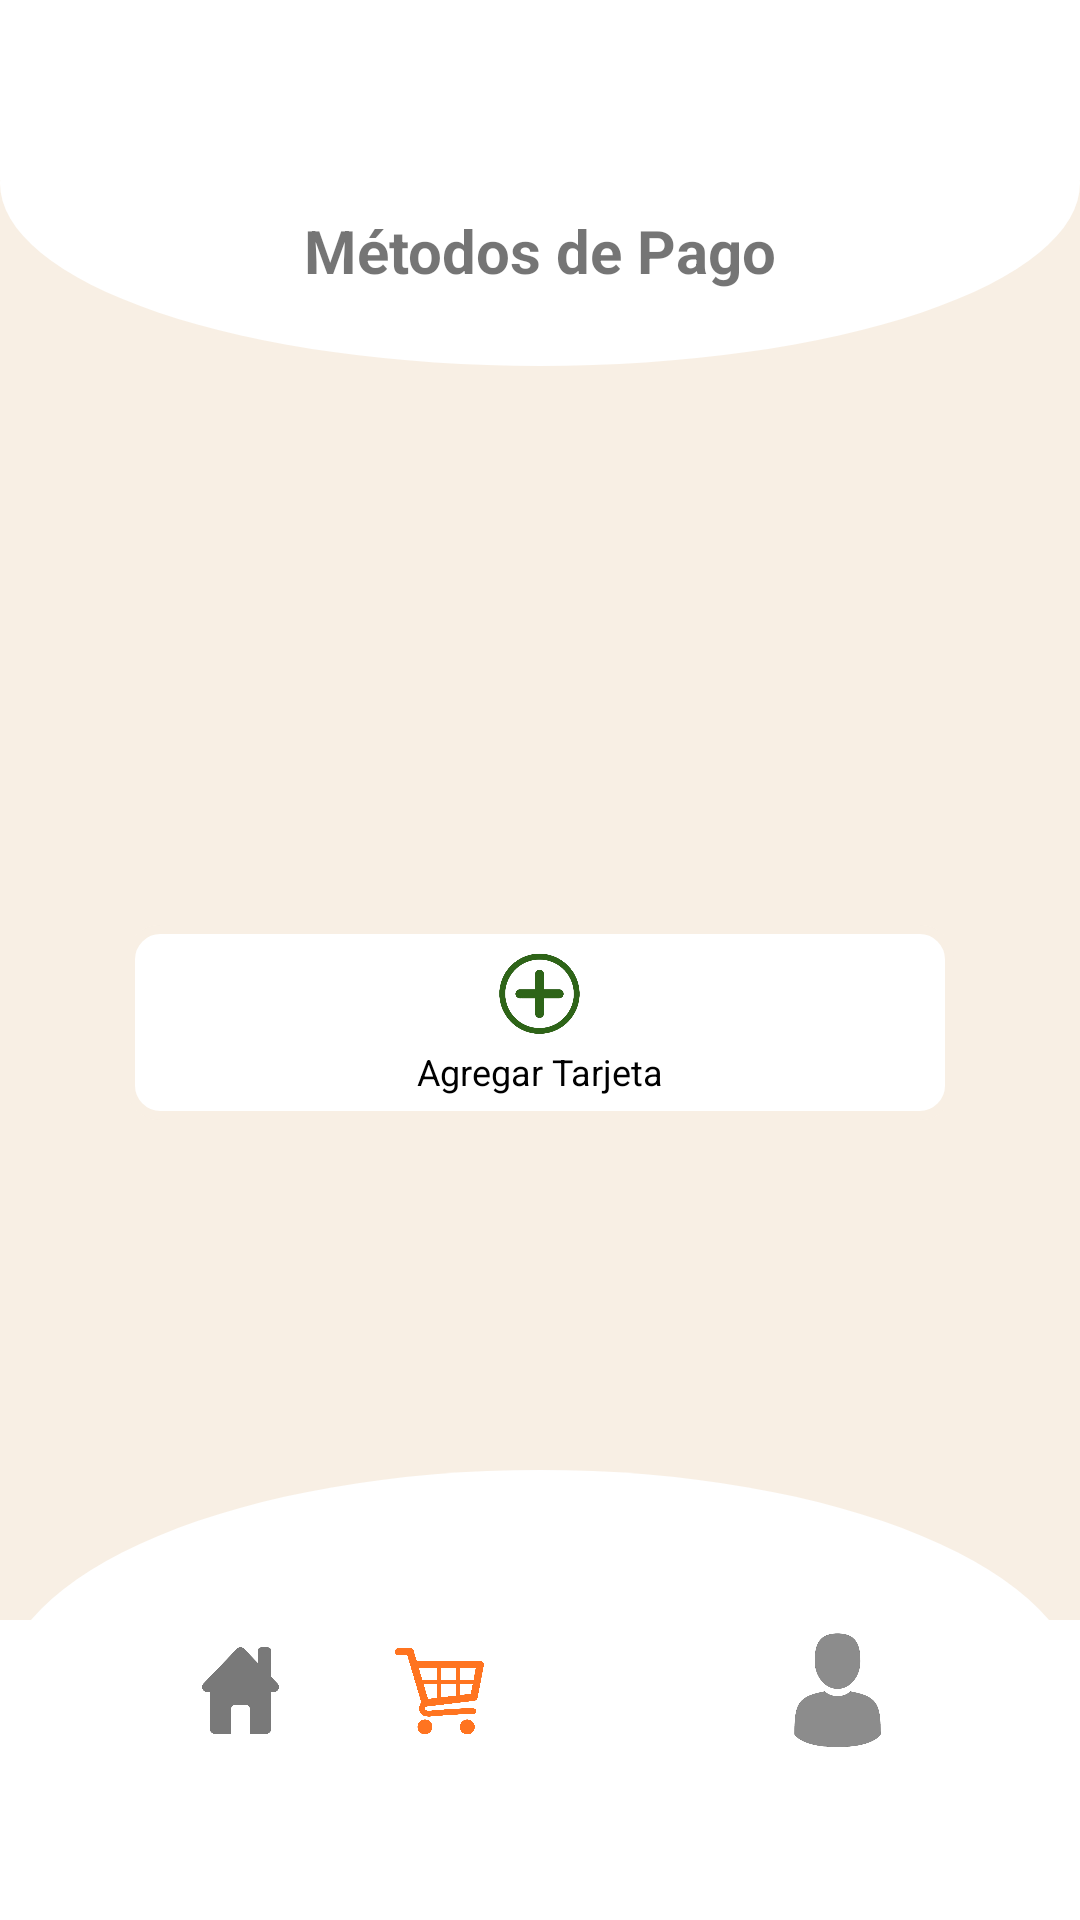

Locate icon controls on the screen. Image size 1080 x 1920, boxes as (x1, y1, x2, y2).
home: (202, 1647, 279, 1734)
perfil: (794, 1633, 881, 1747)
